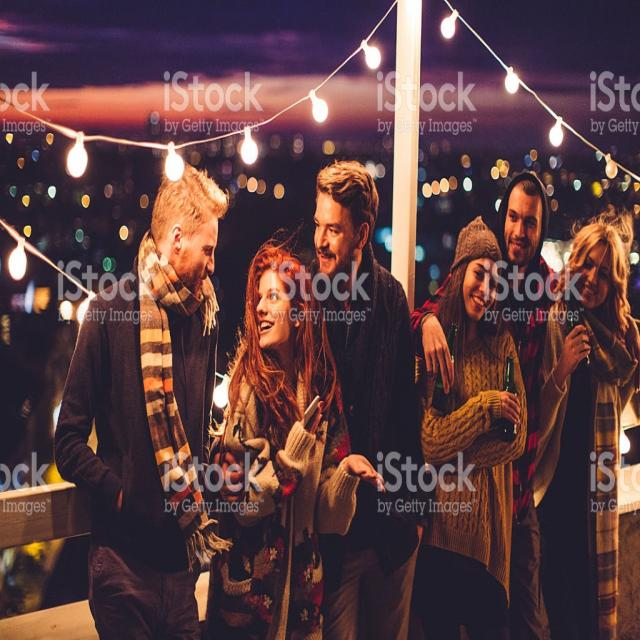body: (49, 157, 232, 639), (211, 236, 376, 639), (308, 158, 430, 640), (406, 214, 531, 639), (520, 217, 640, 639), (495, 167, 559, 640)
